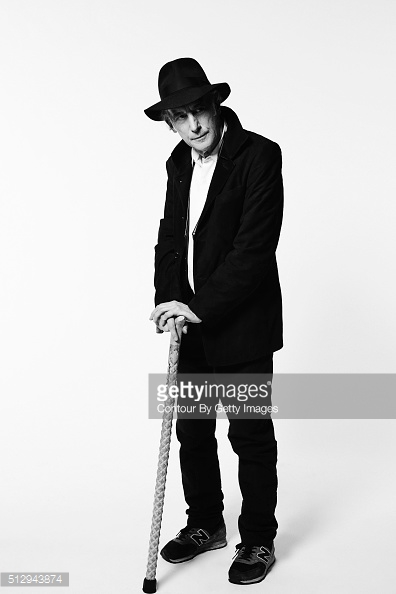em pe: (119, 54, 290, 588)
